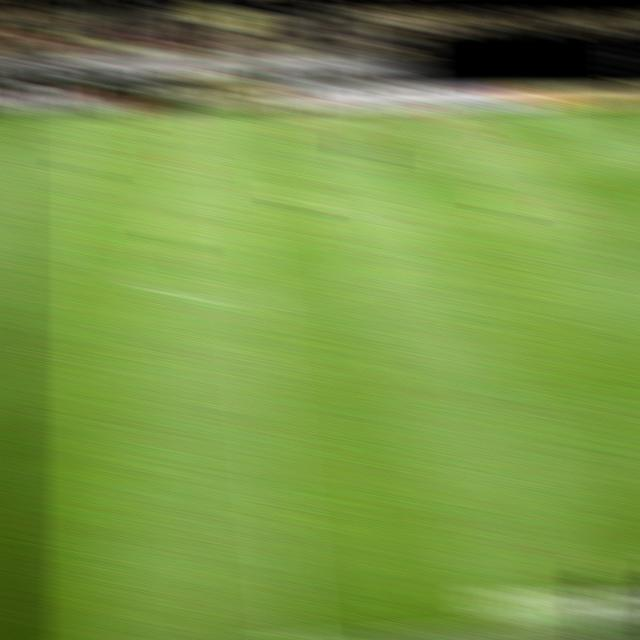halfcircle_bottom: (237, 291, 274, 310)
halfcircle_top: (222, 189, 259, 204)
midline_bottom_intersection: (269, 620, 317, 640)
midline_top_intersection: (216, 109, 251, 124)
